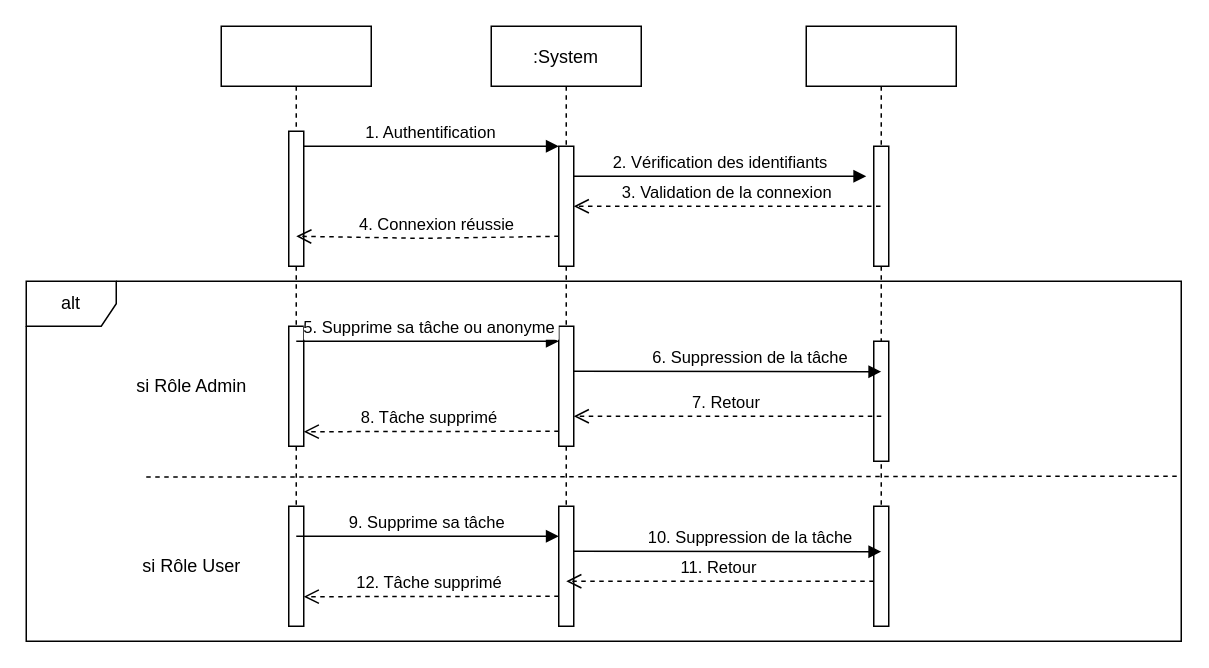
The diagram is 1209 pixels wide and 668 high, and some of its shapes have lost their labels. Here are the shapes that lost their labels. From the top down, the centre of each, then its label:
At point 295,265: ":User".
At point 880,265: ":Base de données".
